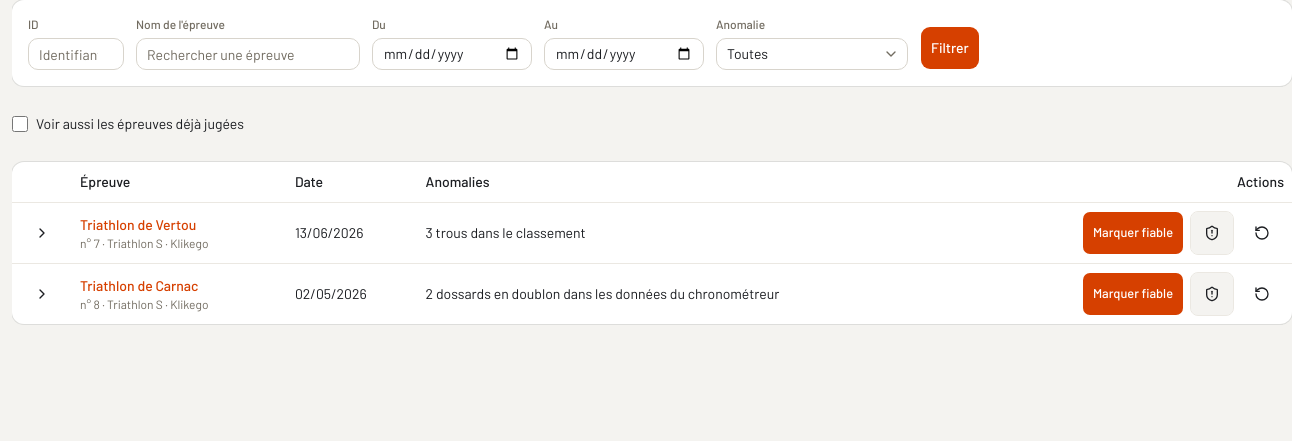
Scenario: QualityQueueTable › déplier une autre ligne ne touche pas la première
Expected: the link "Triathlon de Vertou" is shown, x1=80 y1=216 x2=196 y2=232
Click the button named "Afficher les sources — Triathlon de Vertou" at (42, 232), box x1=20 y1=210 x2=64 y2=254
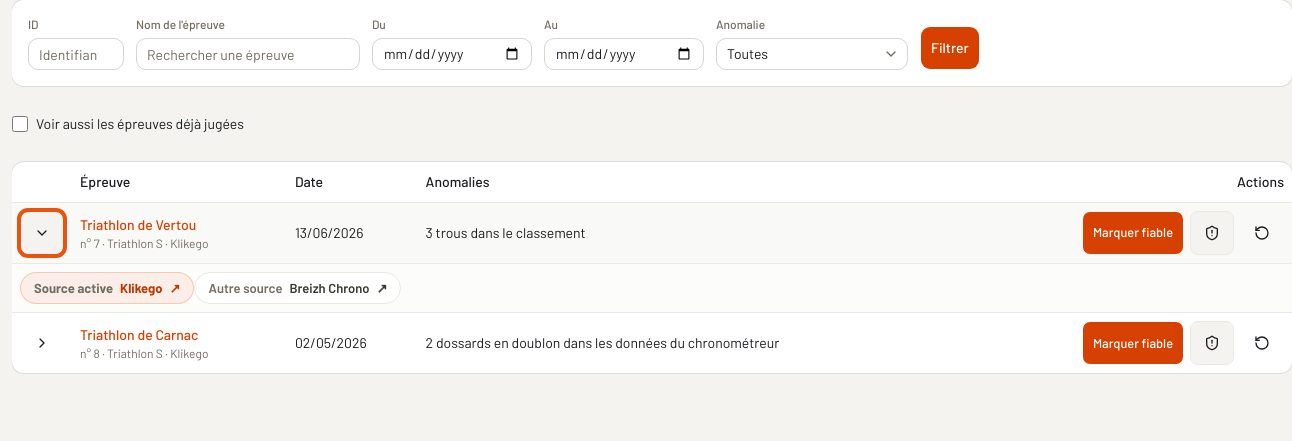
Expected: the link "Autre source Breizh Chrono ↗" is shown, x1=194 y1=272 x2=401 y2=304
Click the button named "Afficher les sources — Triathlon de Carnac" at (42, 343), box x1=20 y1=321 x2=64 y2=365
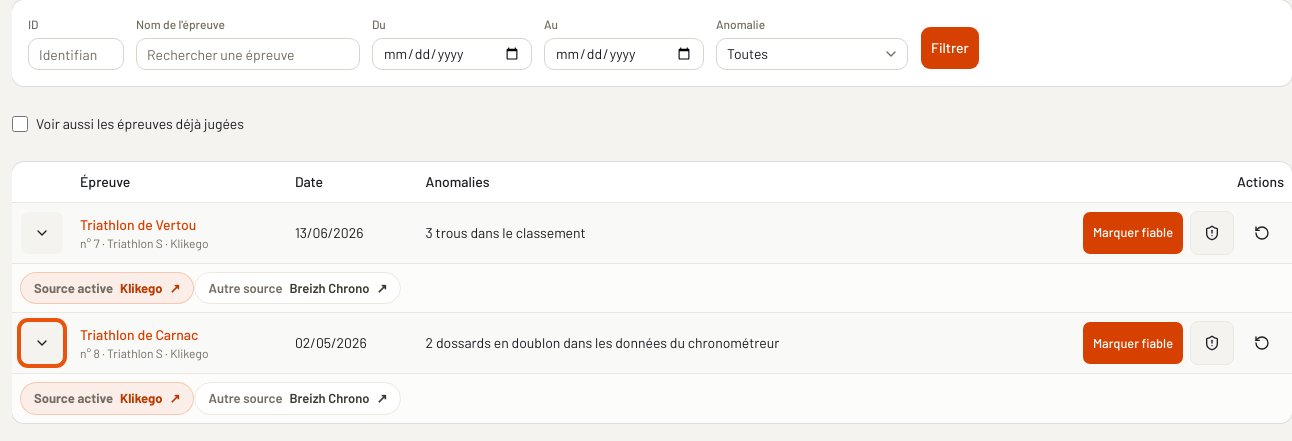
Expected: the number of links "Autre source Breizh Chrono ↗" is 2, x1=194 y1=272 x2=401 y2=304; x1=194 y1=382 x2=401 y2=415
